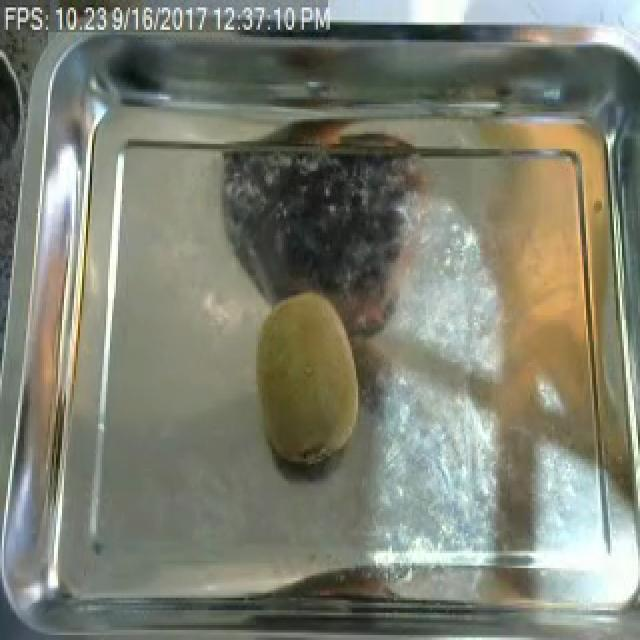Fruit: (240, 283, 368, 474)
